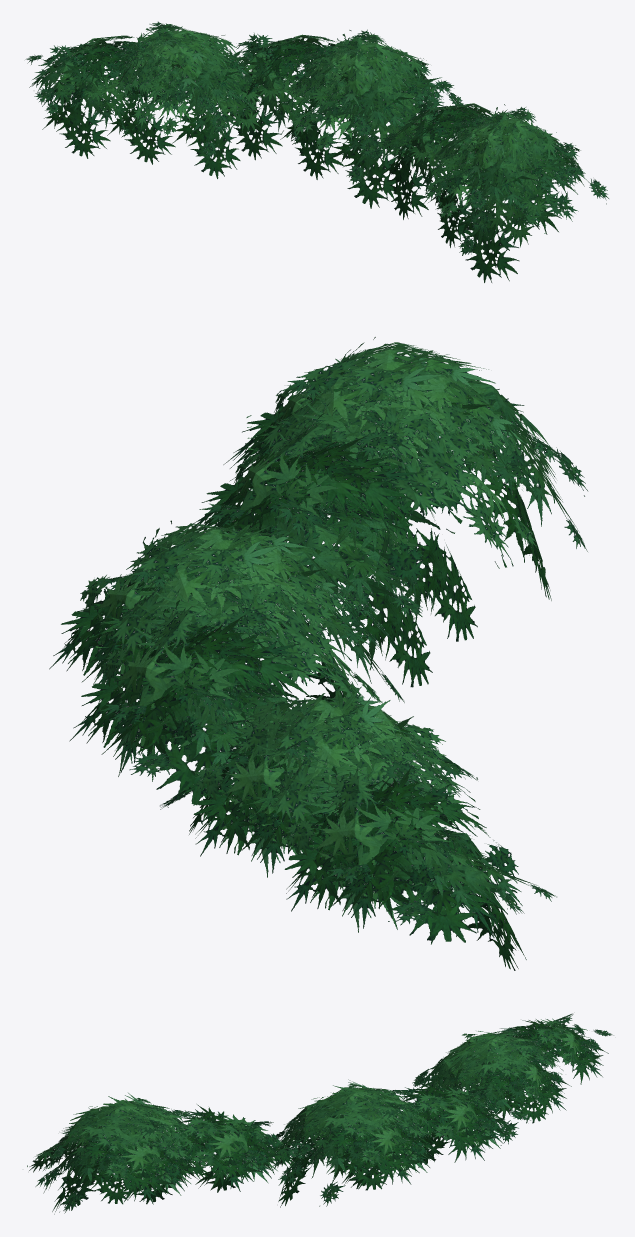
The model's file is Area_12_63.fbx.
3 views of the same model, one above another, from view 1: azimuth 30°, elevation 25°; view 2: azimuth 150°, elevation 25°; view 3: azimuth 270°, elevation 25° (orthographic). The views are drawn at different scales.
Visible parts, largest first — view 1: Area_12_63; view 2: Area_12_63; view 3: Area_12_63.
Part boxes in pixels (<box>): Area_12_63: <box>25,21,608,282</box>; Area_12_63: <box>49,337,588,970</box>; Area_12_63: <box>27,1013,613,1214</box>.
Size of the model in its own units: 1114 by 417 by 1585.
